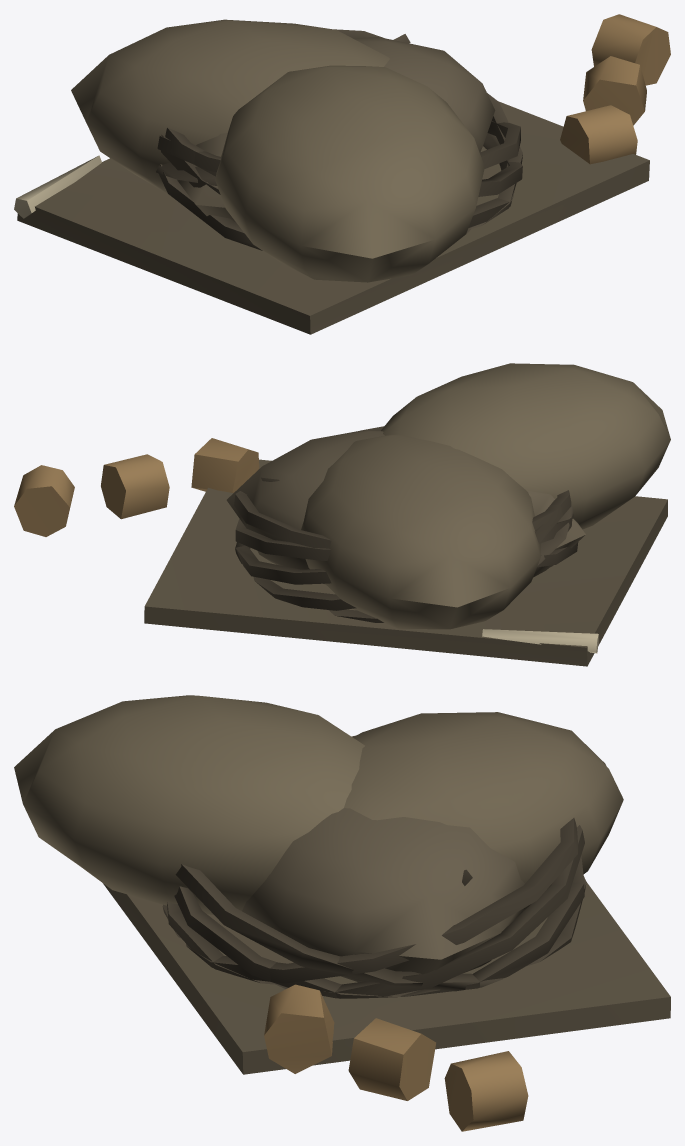
The model's file is net_bundle_b_lod1.glb.
3 renders of one model, top to bottom at view 1: azimuth 30°, elevation 25°; view 2: azimuth 150°, elevation 25°; view 3: azimuth 270°, elevation 25°, orthographic. The views are drawn at different scales.
Visible parts, largest first — view 1: Surface.001; view 2: Surface.001; view 3: Surface.001.
Part boxes in pixels (left/top/right/bottom): Surface.001: left=14, top=14, right=670, bottom=334; Surface.001: left=14, top=363, right=670, bottom=666; Surface.001: left=14, top=695, right=670, bottom=1131.
Size of the model in its own units: 2.23 by 0.6053 by 1.75.
